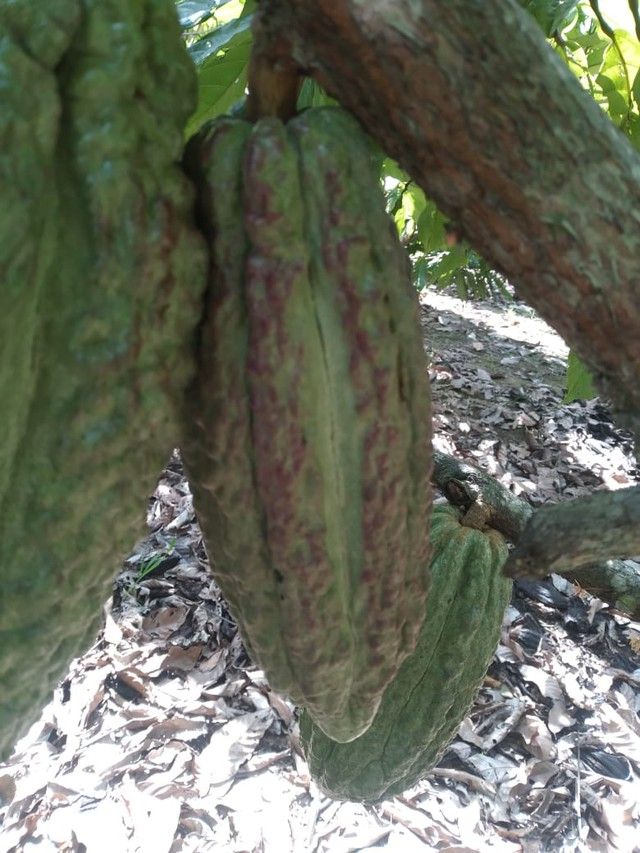Health: (107, 50, 476, 764)
